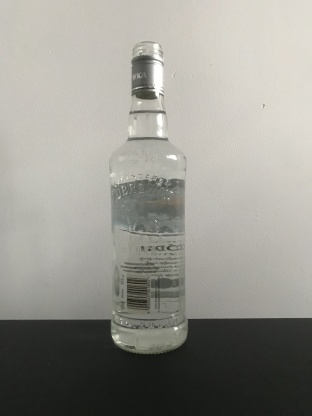nakretka: (129, 39, 166, 100)
